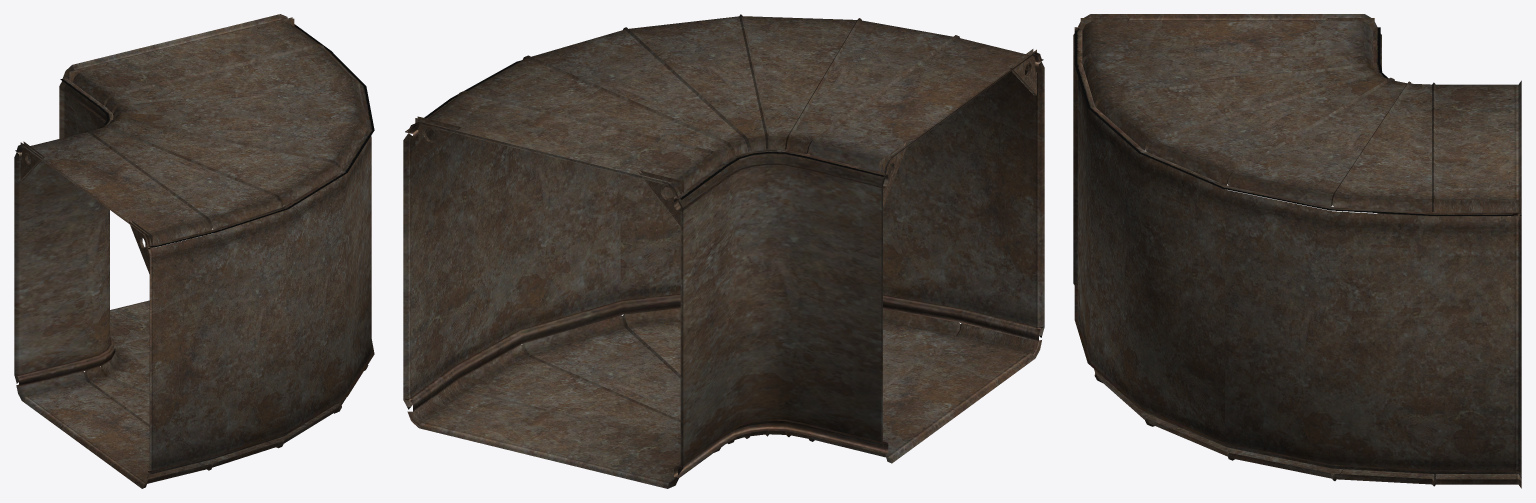
File: vent_shaft_turn_90_rusty.dae
3 renders of one model, left to right at view 1: azimuth 30°, elevation 25°; view 2: azimuth 150°, elevation 25°; view 3: azimuth 270°, elevation 25°, orthographic. The views are drawn at different scales.
Parts seen in each view (by area): view 1: turn_90; view 2: turn_90; view 3: turn_90.
Part boxes in pixels (x1=…): turn_90: x1=14, y1=14, x2=374, y2=488; turn_90: x1=403, y1=14, x2=1044, y2=488; turn_90: x1=1073, y1=14, x2=1521, y2=488.
Size of the model in its own units: 2.29 by 1.65 by 2.29.
